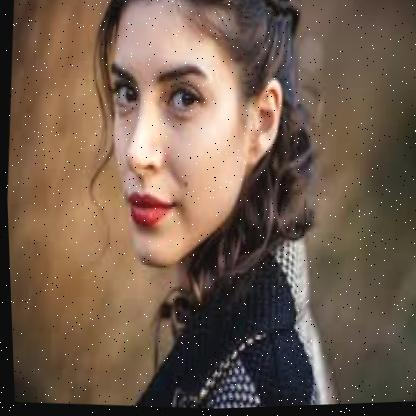person: (90, 0, 311, 287)
